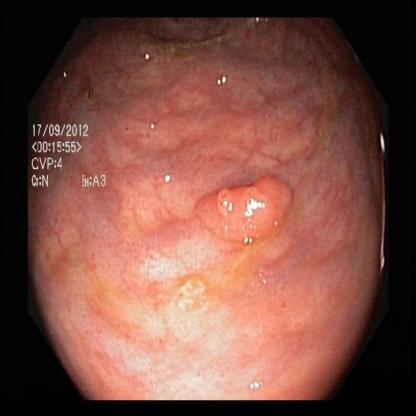Labels: (29, 119, 114, 198)
Polyps: (198, 171, 304, 249)
